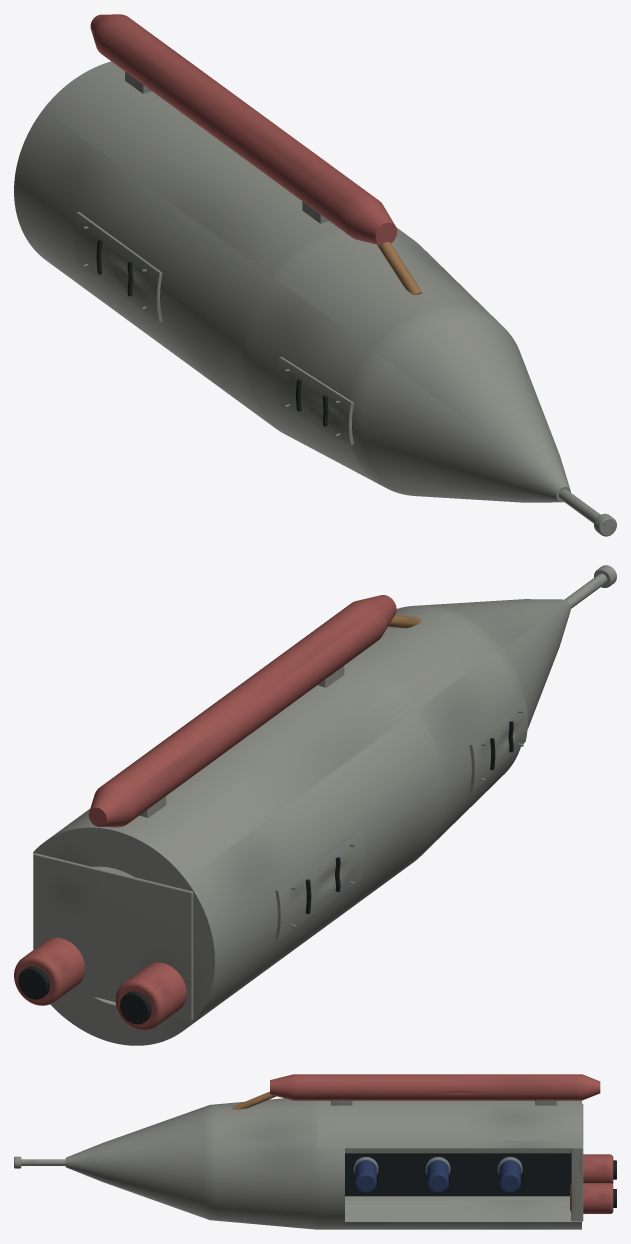
3 views of the same model, one above another, from view 1: azimuth 30°, elevation 25°; view 2: azimuth 150°, elevation 25°; view 3: azimuth 270°, elevation 25° (orthographic). The views are drawn at different scales.
Parts seen in each view (by area): view 1: Laser tapered front shell, Laser open rear shell, Laser red dorsal tube, Laser service cover 1, Laser service cover 0, Laser copper dorsal lead; view 2: Laser open rear shell, Laser tapered front shell, Laser red dorsal tube, Laser bay end wall 1, Laser service cover 1, Laser red rear port 0, Laser red rear port 1, Laser service cover 0, Laser dark rear inlay 1, Laser dark rear inlay 0; view 3: Laser tapered front shell, Laser open rear shell, Laser red dorsal tube, Laser recessed bay floor, Laser bay end wall 1, Laser red rear port 1, Laser red rear port 0, Laser blue bay fitting 0, Laser blue bay fitting 1, Laser blue bay fitting 2, Laser thin forward stem, Laser copper dorsal lead.
Part boxes in pixels (x1,y1,x2,y2): Laser tapered front shell: (220, 216, 570, 502); Laser open rear shell: (14, 61, 408, 425); Laser red dorsal tube: (90, 14, 397, 245); Laser service cover 1: (73, 212, 162, 322); Laser service cover 0: (276, 357, 353, 445); Laser copper dorsal lead: (377, 242, 422, 294); Laser open rear shell: (33, 663, 445, 1045); Laser tapered front shell: (334, 599, 570, 873); Laser red dorsal tube: (88, 595, 396, 827); Laser bay end wall 1: (33, 853, 193, 1020); Laser service cover 1: (275, 829, 364, 940); Laser red rear port 0: (115, 962, 186, 1030); Laser red rear port 1: (14, 937, 85, 1005); Laser service cover 0: (469, 699, 527, 792); Laser dark rear inlay 1: (18, 966, 49, 999); Laser dark rear inlay 0: (120, 991, 151, 1024); Laser tapered front shell: (65, 1098, 344, 1229); Laser open rear shell: (318, 1100, 581, 1229); Laser red dorsal tube: (270, 1074, 600, 1100); Laser recessed bay floor: (345, 1153, 571, 1196); Laser bay end wall 1: (571, 1103, 583, 1221); Laser red rear port 1: (570, 1183, 613, 1213); Laser red rear port 0: (583, 1154, 613, 1183); Laser blue bay fitting 0: (355, 1160, 376, 1192); Laser blue bay fitting 1: (427, 1160, 448, 1192); Laser blue bay fitting 2: (499, 1160, 520, 1192); Laser thin forward stem: (21, 1159, 65, 1165); Laser copper dorsal lead: (232, 1091, 275, 1109).
Size of the model in its own units: 0.576 by 0.68 by 2.51.
6 materials, 3 textured.
